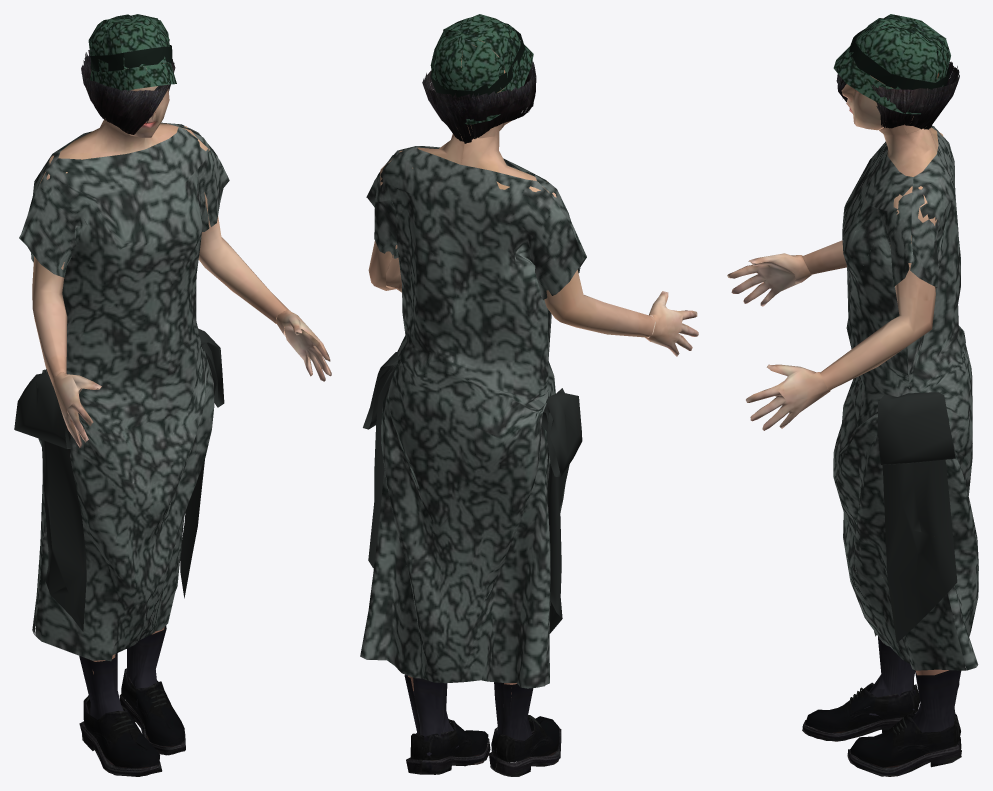
3 renders of one model, left to right at view 1: azimuth 30°, elevation 25°; view 2: azimuth 150°, elevation 25°; view 3: azimuth 270°, elevation 25°, orthographic. The views are drawn at different scales.
Parts seen in each view (by area): view 1: Modell; view 2: Modell; view 3: Modell.
Part boxes in pixels (<box>): Modell: <box>14,14,331,776</box>; Modell: <box>360,14,698,776</box>; Modell: <box>727,14,978,776</box>.
Size of the model in its own units: 0.654 by 1.76 by 0.5473.
Materials: 7 (7 with a texture image).
